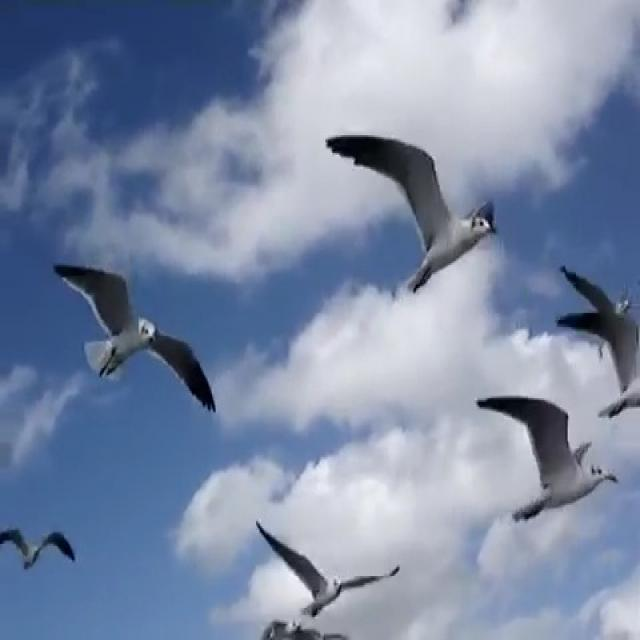bird: (329, 132, 505, 288), (50, 264, 229, 402), (473, 397, 629, 536), (258, 537, 405, 625), (0, 527, 62, 576)
